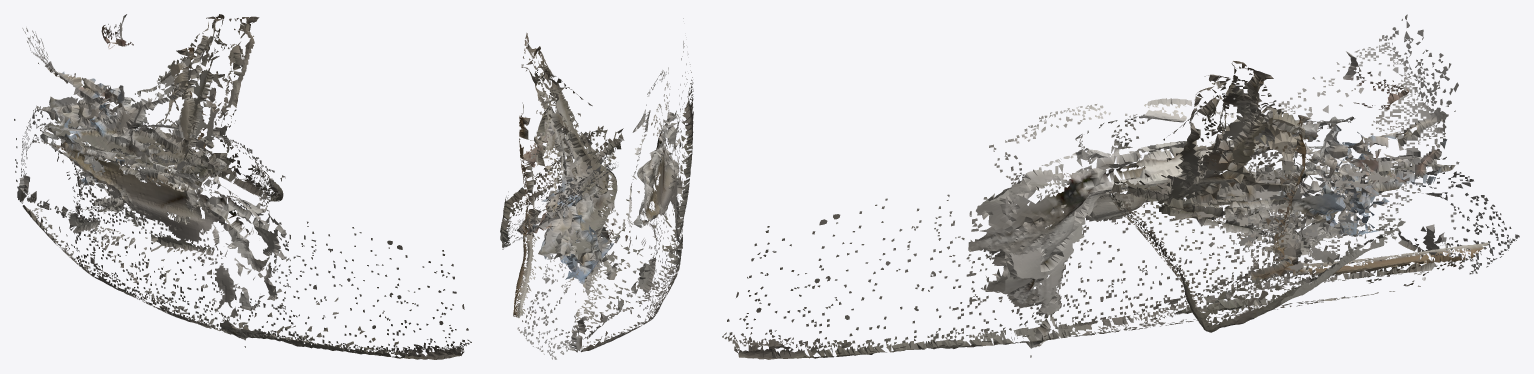
The picture shows the model from 3 angles, left to right: view 1: azimuth 30°, elevation 25°; view 2: azimuth 150°, elevation 25°; view 3: azimuth 270°, elevation 25°; orthographic projection. The views are drawn at different scales.
Parts seen in each view (by area): view 1: geometry_0; view 2: geometry_0; view 3: geometry_0.
Boxes of the visible parts, x1,y1,x2,y2 form: geometry_0: (14, 14, 471, 359); geometry_0: (500, 18, 693, 359); geometry_0: (722, 14, 1519, 359).
Size of the model in its own units: 0.5047 by 0.6596 by 1.43.
